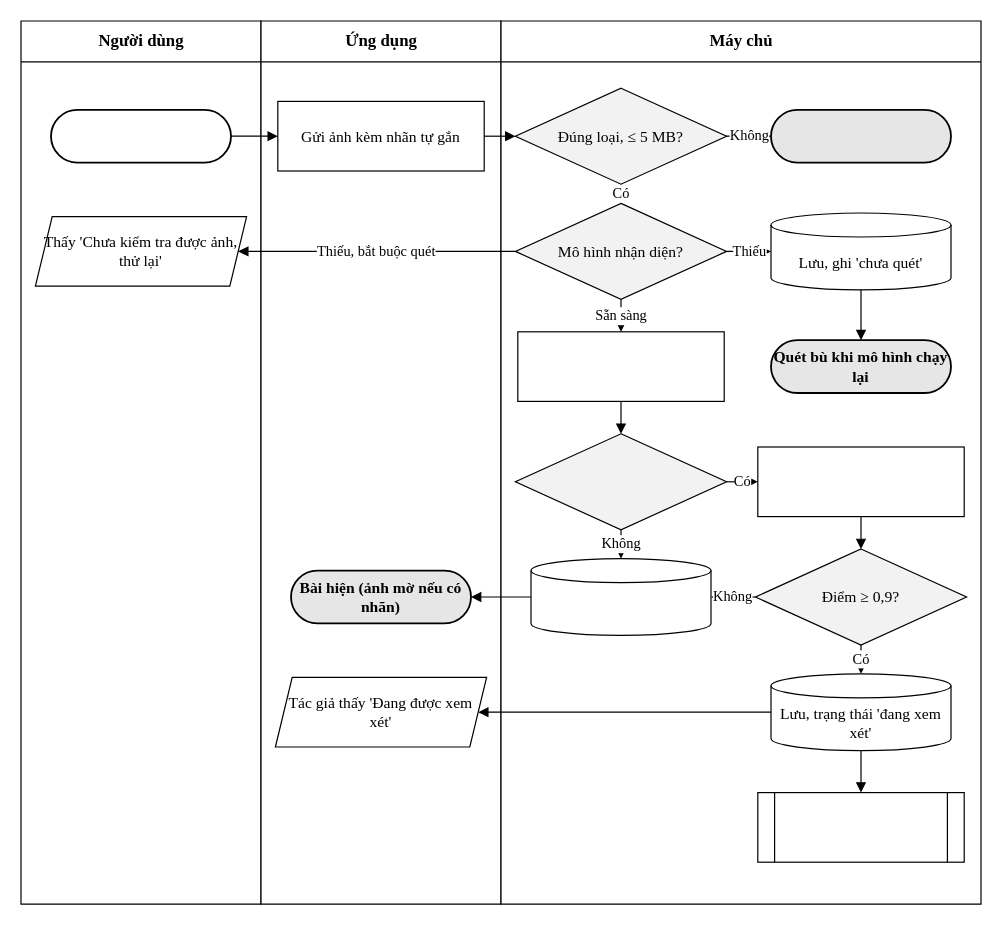
The diagram is 1002 pixels wide and 925 high, and some of its shapes have lost their labels. The shapes that lost their labels are listed below. From the top down, each one's centre as x and y in pixels, then its label:
point 140,135: Chọn ảnh, có thể bật 'Nhạy cảm'
point 860,135: Lỗi 400, không lưu
point 620,366: Chấm điểm từng ảnh (0,5–0,7 giây)
point 620,481: ≥ 0,7, lỗi ảnh hoặc tự gắn?
point 860,481: Gắn nhãn nhạy cảm, ghi nguồn
point 620,596: Lưu bài, ảnh và nhãn
point 860,826: Hàng đợi kiểm duyệt (C1)
